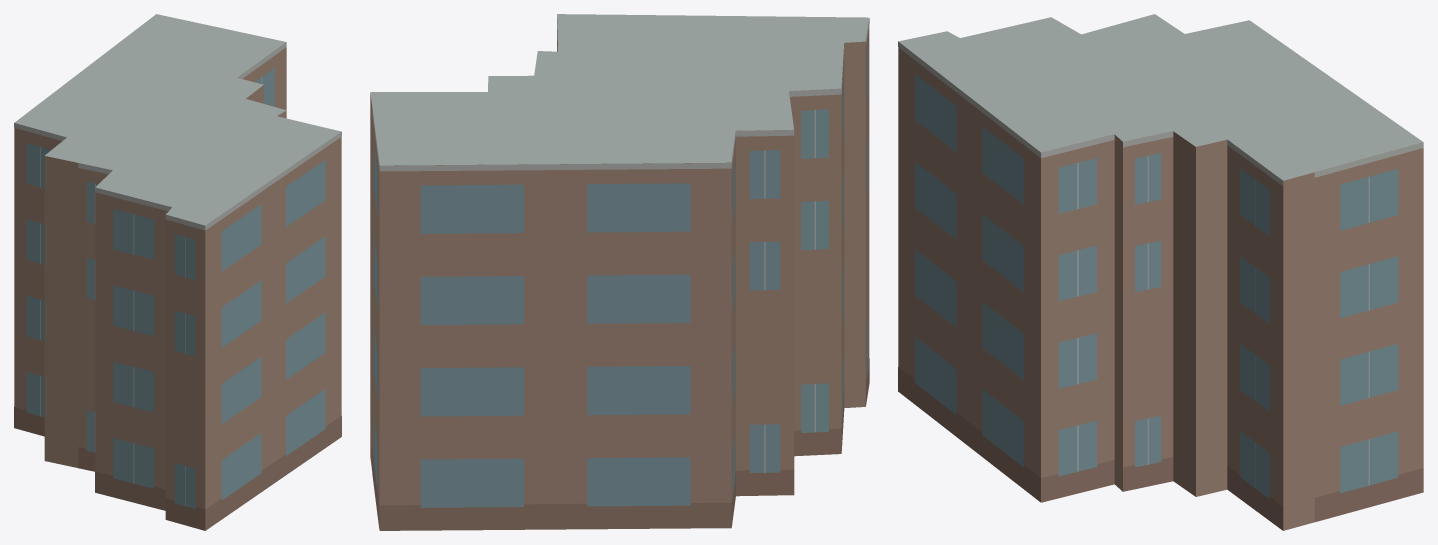
File: survey-upis-32568789.glb
The picture shows the model from 3 angles, left to right: view 1: azimuth 30°, elevation 25°; view 2: azimuth 150°, elevation 25°; view 3: azimuth 270°, elevation 25°; orthographic projection. The views are drawn at different scales.
Visible parts, largest first — view 1: survey-upis-32568789.tmp; view 2: survey-upis-32568789.tmp; view 3: survey-upis-32568789.tmp.
Boxes of the visible parts, bbox=[...] form: survey-upis-32568789.tmp: bbox=[14, 14, 341, 530]; survey-upis-32568789.tmp: bbox=[370, 14, 869, 530]; survey-upis-32568789.tmp: bbox=[898, 14, 1423, 530].
Bounding box in the file's own units: 15.44 × 15.1 × 20.55.
